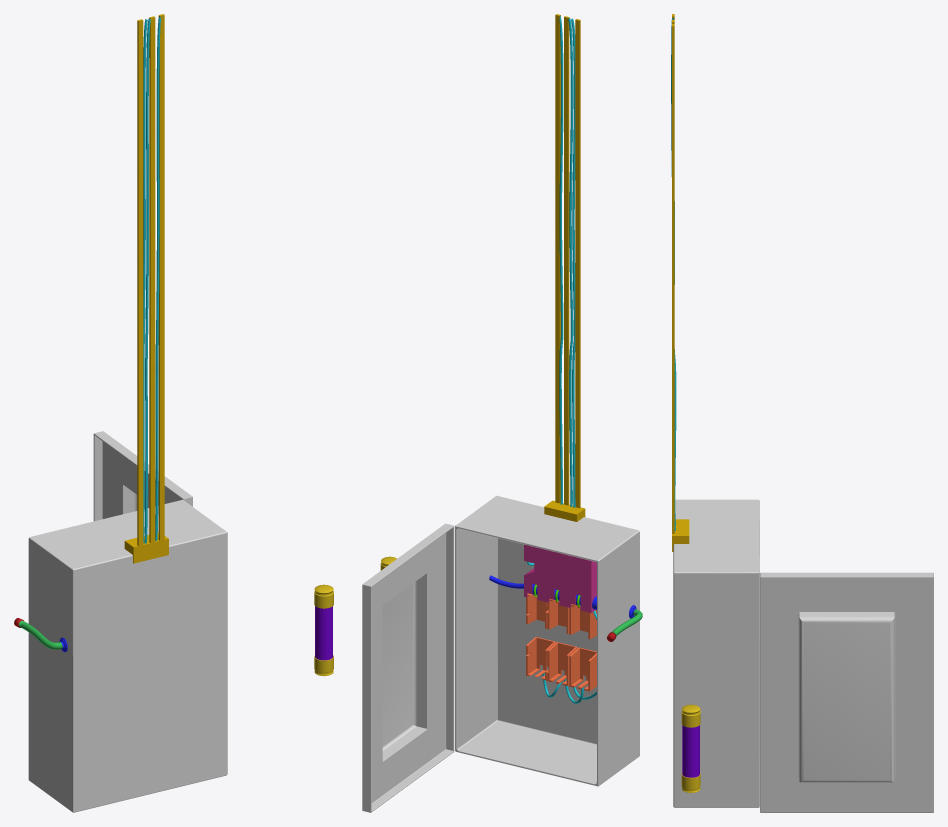
The model's file is FuseBox.fbx.
The picture shows the model from 3 angles, left to right: view 1: azimuth 30°, elevation 25°; view 2: azimuth 150°, elevation 25°; view 3: azimuth 270°, elevation 25°; orthographic projection. The views are drawn at different scales.
Parts seen in each view (by area): view 1: Cube_SP, Cube.002, Cube.001_SP, Cylinder_SP; view 2: Cube_SP, Cube.001_SP, Cube.002; view 3: Cube.001_SP, Cube_SP, Cube.002, Cylinder_SP.
Part boxes in pixels (x1,y1,x2,y2): Cube_SP: (28,499,227,812); Cube.002: (59,14,168,652); Cube.001_SP: (93,431,192,521); Cylinder_SP: (314,584,333,676); Cube_SP: (455,495,639,786); Cube.001_SP: (362,523,454,812); Cube.002: (489,14,636,703); Cube.001_SP: (760,572,933,812); Cube_SP: (673,499,759,807); Cube.002: (671,14,689,551); Cylinder_SP: (681,704,700,792).
Size of the model in its own units: 0.7316 by 1.91 by 0.6049.
